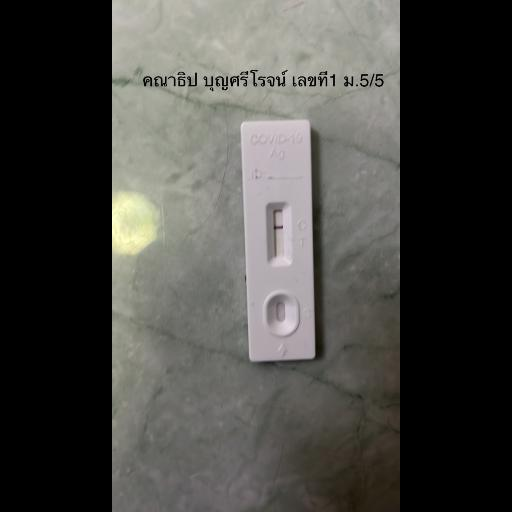Neg: (244, 122, 316, 358)
